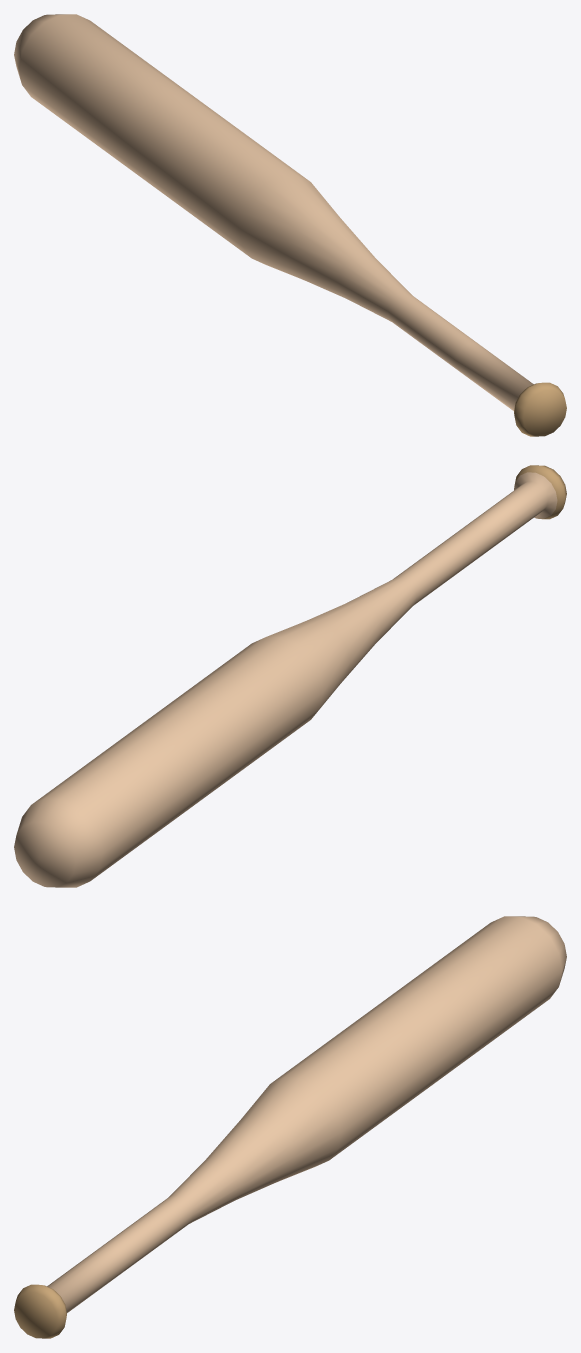
File: bat.glb
3 renders of one model, top to bottom at view 1: azimuth 30°, elevation 25°; view 2: azimuth 150°, elevation 25°; view 3: azimuth 330°, elevation 25°, orthographic.
Visible parts, largest first — view 1: bat; view 2: bat; view 3: bat.
Boxes of the visible parts, x1,y1,x2,y2 form: bat: (14,14,566,436); bat: (14,465,566,887); bat: (14,916,566,1338).
Size of the model in its own units: 0.092 by 0.092 by 0.964.
